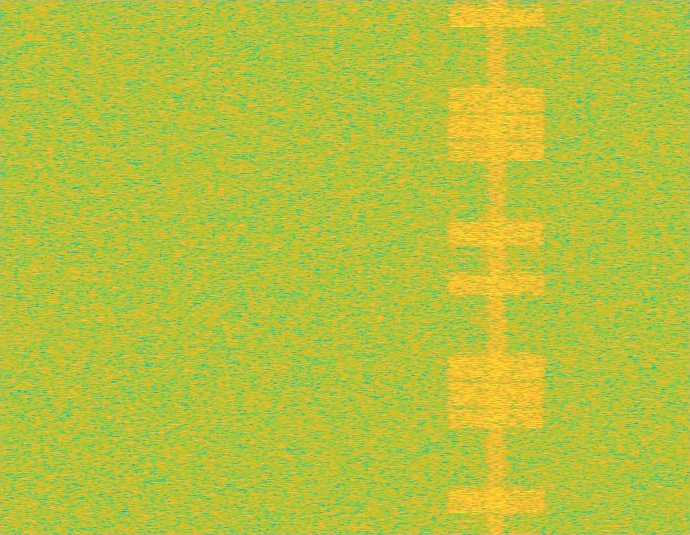DSSS: (485, 0, 508, 534)
LTE: (445, 0, 548, 534)
Radar: (461, 0, 475, 534)
